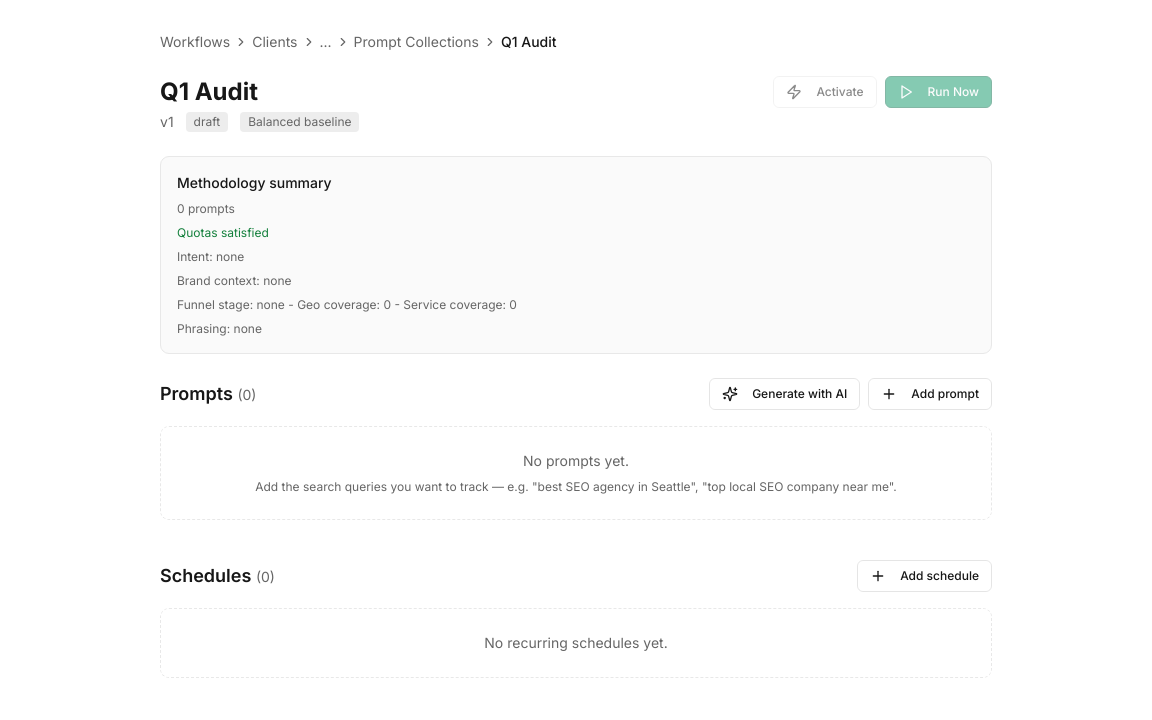
Test: PromptCollectionDetail — AI prompt generation › shows intent metadata, rejected count, and warnings from the generation result
Click the button "Generate with AI".
click(785, 394)  # box [709,378,860,410]
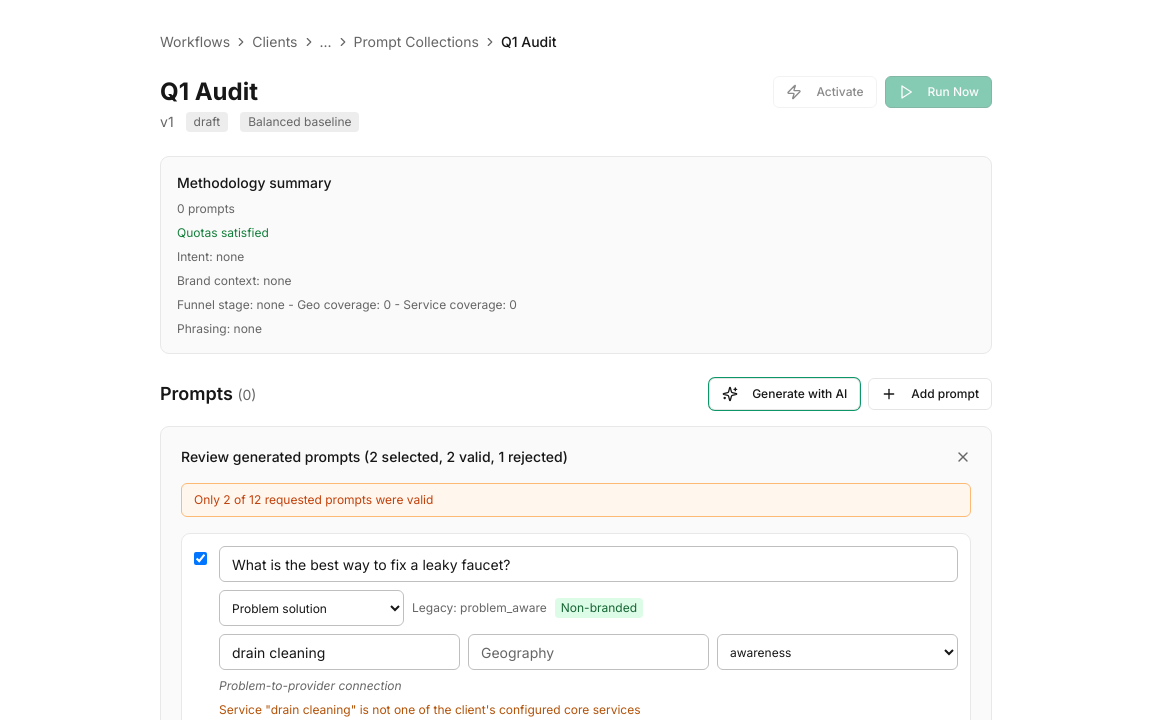
Result: the field showing "What is the best way to fix a leaky faucet?" is shown at [219,546,958,582]
Result: the dropdown named "intent type" shows "Problem solution" at [219,590,404,626]
Result: the text "Non-branded" is shown at [555,598,643,618]
